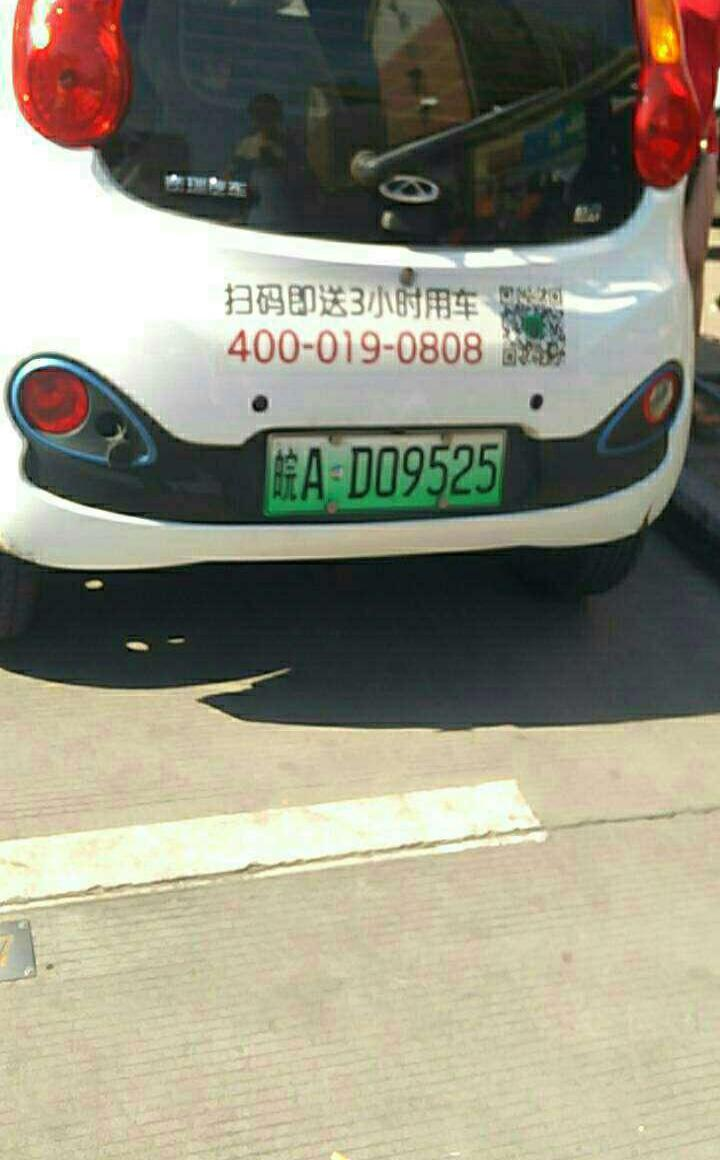car_id: (269, 434, 505, 512)
